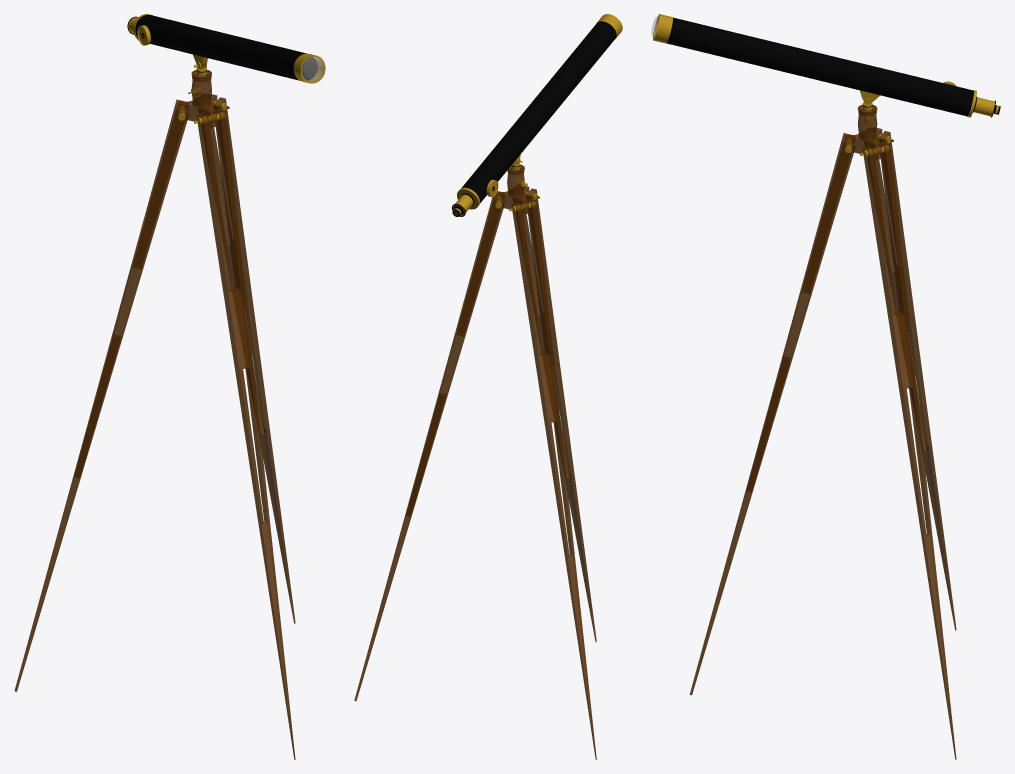
File: Telescope.glb
The picture shows the model from 3 angles, left to right: view 1: azimuth 30°, elevation 25°; view 2: azimuth 150°, elevation 25°; view 3: azimuth 270°, elevation 25°; orthographic projection. The views are drawn at different scales.
Parts seen in each view (by area): view 1: Cylinder.007; view 2: Cylinder.007; view 3: Cylinder.007.
Boxes of the visible parts, <box> form: Cylinder.007: <box>14,14,325,759</box>; Cylinder.007: <box>354,14,622,759</box>; Cylinder.007: <box>651,14,1000,759</box>.
Bounding box in the file's own units: 24.34 × 59.27 × 27.58.
